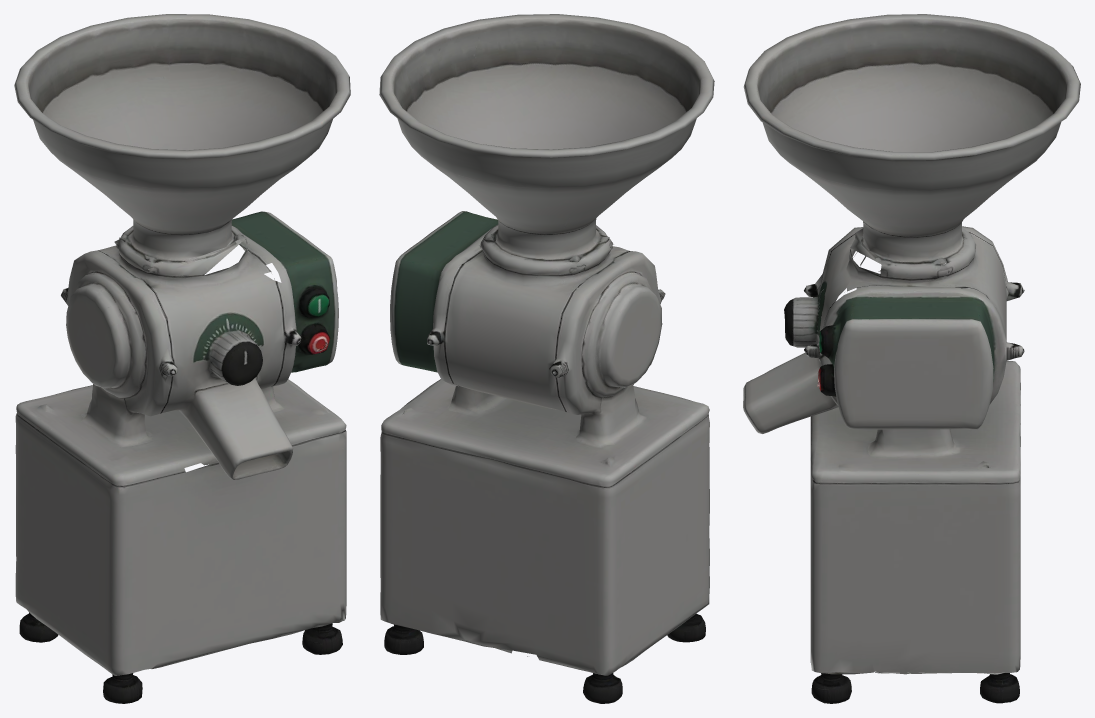
File: mill.glb
The picture shows the model from 3 angles, left to right: view 1: azimuth 30°, elevation 25°; view 2: azimuth 150°, elevation 25°; view 3: azimuth 270°, elevation 25°; orthographic projection.
Parts seen in each view (by area): view 1: tripo_node_32b68111; view 2: tripo_node_32b68111; view 3: tripo_node_32b68111.
Part boxes in pixels (x1=…): tripo_node_32b68111: x1=14, y1=14, x2=350, y2=703; tripo_node_32b68111: x1=379, y1=14, x2=714, y2=703; tripo_node_32b68111: x1=743, y1=14, x2=1080, y2=703.
Size of the model in its own units: 0.9355 by 1.72 by 0.9347.
1 material, 1 textured.
